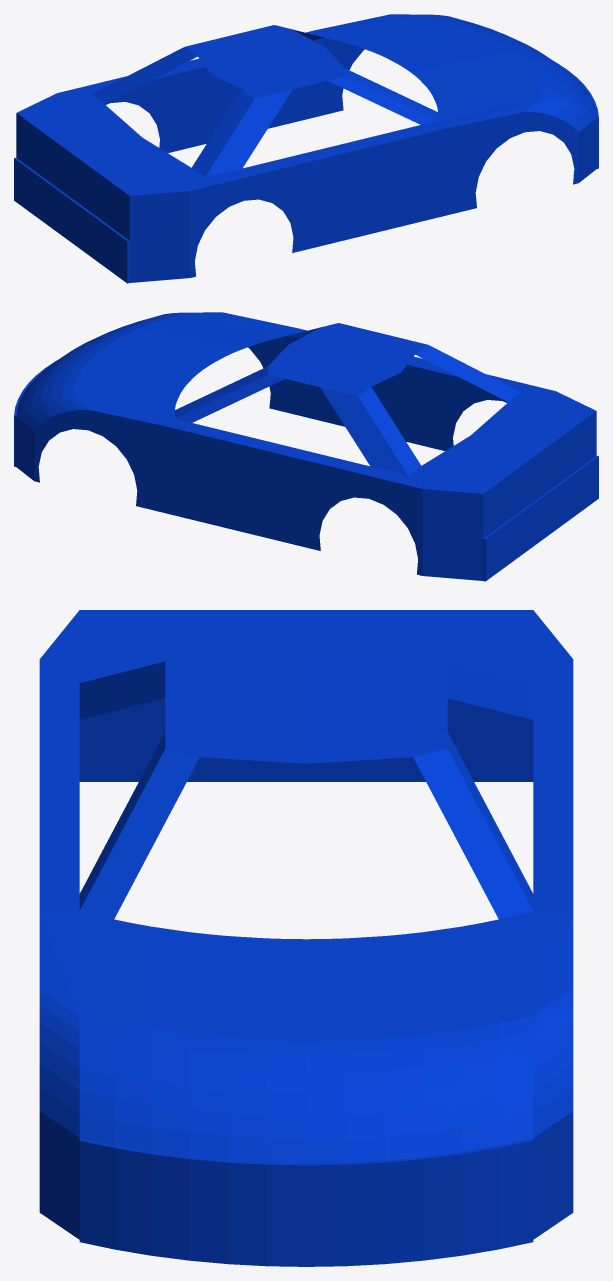
Rendered from autonomos.dae.
3 views of the same model, one above another, from view 1: azimuth 30°, elevation 25°; view 2: azimuth 150°, elevation 25°; view 3: azimuth 270°, elevation 25° (orthographic). The views are drawn at different scales.
Visible parts, largest first — view 1: half_car (×2); view 2: half_car (×2); view 3: half_car (×2).
Boxes of the visible parts, left/top/right/bottom form: half_car (×2): left=14, top=14, right=598, bottom=283; half_car (×2): left=14, top=312, right=598, bottom=581; half_car (×2): left=39, top=610, right=573, bottom=1266.
Bounding box in the file's own units: 16.93 × 7.87 × 4.33.
